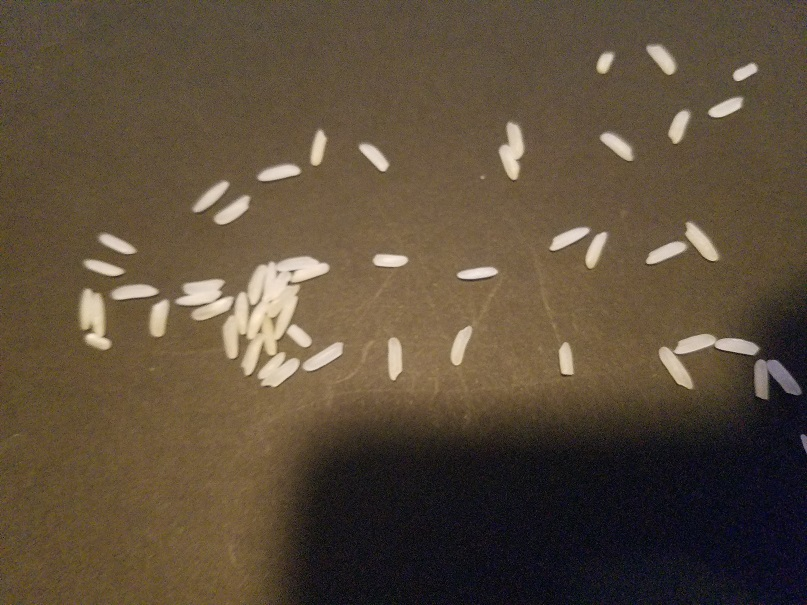egg: (678, 218, 724, 265), (654, 343, 695, 392), (186, 176, 232, 217), (209, 192, 257, 230), (764, 354, 804, 399), (640, 235, 690, 268), (300, 338, 346, 373), (596, 128, 640, 163), (188, 294, 236, 326), (641, 40, 682, 77), (380, 337, 411, 384), (547, 220, 594, 251), (77, 253, 129, 281), (580, 229, 613, 273), (95, 229, 142, 259), (445, 319, 474, 367), (356, 138, 392, 176), (714, 332, 762, 359), (105, 281, 163, 303), (242, 255, 268, 304), (145, 299, 173, 344), (705, 92, 750, 120), (253, 162, 305, 186), (671, 332, 718, 358), (287, 260, 337, 284), (267, 357, 302, 391), (502, 117, 527, 163), (452, 261, 504, 283), (255, 348, 289, 381), (667, 105, 693, 148), (367, 248, 415, 271), (750, 355, 772, 404), (554, 337, 579, 380), (305, 126, 329, 170), (274, 296, 299, 337), (497, 143, 522, 182), (245, 298, 267, 342), (220, 315, 241, 361), (275, 251, 320, 272), (171, 291, 226, 308), (729, 58, 761, 87), (240, 335, 262, 375), (90, 293, 110, 336), (76, 285, 93, 333), (284, 323, 315, 349), (262, 311, 279, 358), (180, 277, 227, 294), (82, 330, 116, 353), (259, 263, 278, 300), (592, 49, 616, 77), (234, 293, 249, 335)
